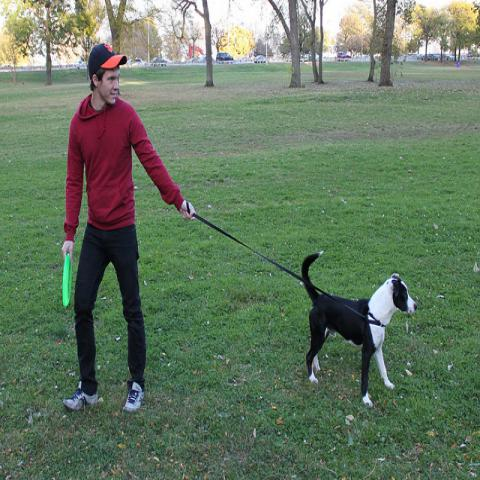car: (216, 53, 233, 64), (150, 57, 168, 67), (337, 51, 352, 59), (254, 55, 269, 62), (71, 60, 86, 65), (300, 56, 308, 61), (430, 54, 434, 62)
